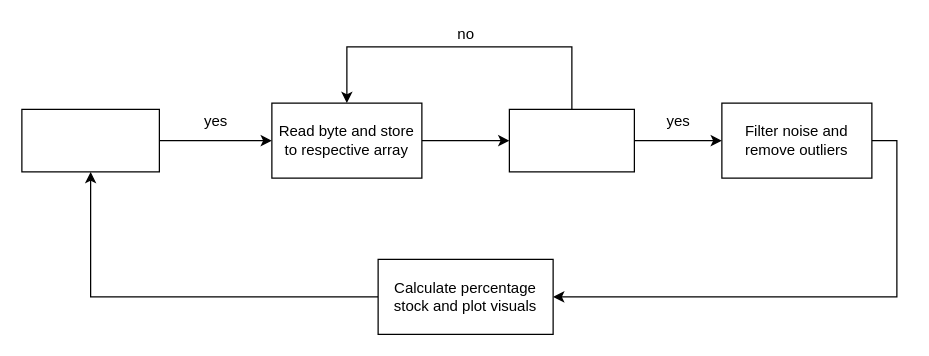
Some shapes in this 929 by 356 pixel diagram are drawn without their labels. The shapes that lost their labels are listed below. From the top down, each one's centre as x and y in pixels, then its label:
At pixel 90 140: "Serial input is start sentinel".
At pixel 571 140: "Reached empty struct".
